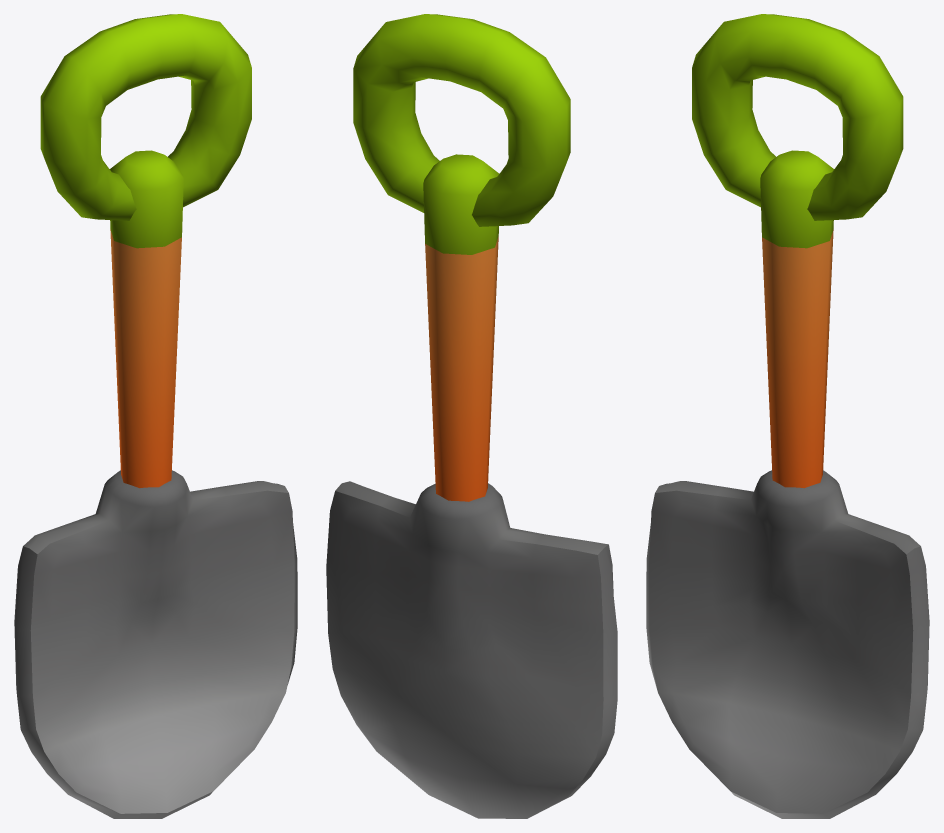
The model's file is Farm_Tool_Shovel_01.fbx.
3 views of the same model, side by side, from view 1: azimuth 30°, elevation 25°; view 2: azimuth 150°, elevation 25°; view 3: azimuth 330°, elevation 25° (orthographic). The views are drawn at different scales.
Parts seen in each view (by area): view 1: Farm_Tool_Shovel_01; view 2: Farm_Tool_Shovel_01; view 3: Farm_Tool_Shovel_01.
Boxes of the visible parts, box(x1,y1,x2,y2) form: Farm_Tool_Shovel_01: box(14, 14, 297, 818); Farm_Tool_Shovel_01: box(326, 14, 617, 818); Farm_Tool_Shovel_01: box(646, 14, 929, 818).
Size of the model in its own units: 48.25 by 129 by 12.5.
